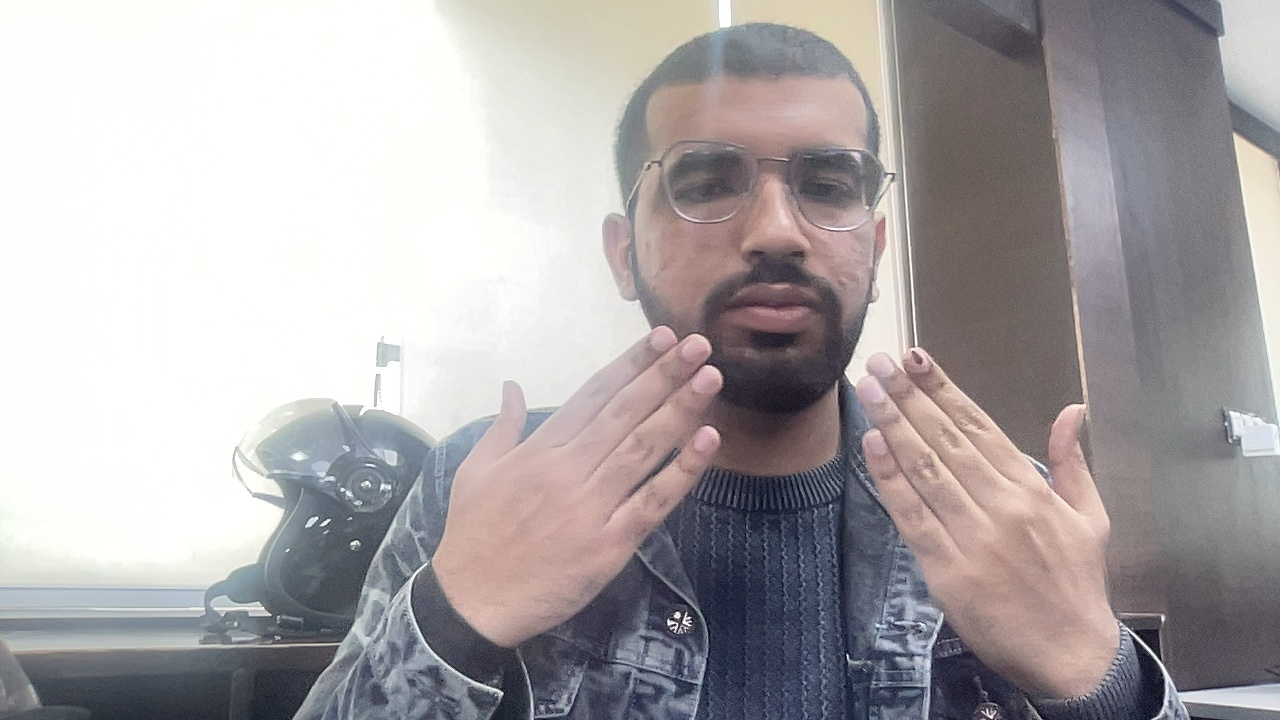Thank You: (367, 293, 1170, 674)
